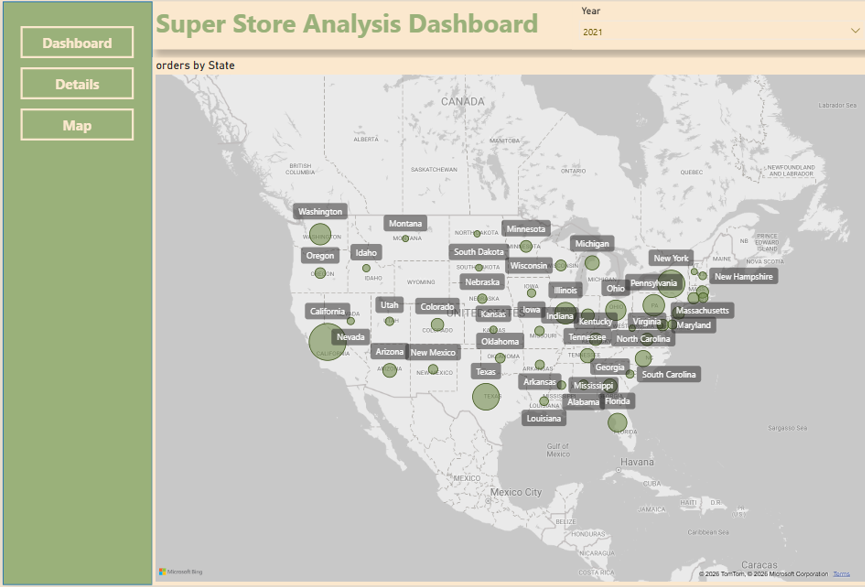

What the dashboard file says about the page in this screenshot:
{"tool":"powerbi","page":{"name":"Map","canvas":[1280,850],"ordinal":1},"visuals":[{"type":"textbox","box":[218.3,0,1046.7,70],"z":0},{"type":"shape","box":[0,0,218,850],"z":1000},{"type":"slicer","fields":{"Values":["Orders.Order Date.Variation.Date Hierarchy.Year","Orders.Order Date.Variation.Date Hierarchy.Quarter","Orders.Order Date.Variation.Date Hierarchy.Month","Orders.Order Date.Variation.Date Hierarchy.Day"]},"box":[830,0,435,70],"z":2000},{"type":"actionButton","box":[25,35,165,46.7],"z":3000},{"type":"actionButton","box":[25,95,165,46.7],"z":4000},{"type":"actionButton","box":[25,156.7,165,46.7],"z":5000},{"type":"tableEx","fields":{"Values":["Orders.State","Orders.City","Sum(Orders.Profit)","Sum(Orders.Sales)"]},"box":[218.3,81.7,1046.7,768.3],"z":7000}]}

Visuals, with their boxes in screenshot pixels (x1, y1, x2, y2), scaled from the page's 1280x850 canvas onto the 865x587 screenshot:
textbox: box=[148, 0, 855, 48]
shape: box=[0, 0, 147, 586]
slicer - Orders.Order Date.Variation.Date Hierarchy.Year x Orders.Order Date.Variation.Date Hierarchy.Quarter: box=[561, 0, 855, 48]
actionButton: box=[17, 24, 128, 56]
actionButton: box=[17, 66, 128, 98]
actionButton: box=[17, 108, 128, 140]
tableEx - Orders.State x Orders.City: box=[148, 56, 855, 586]
